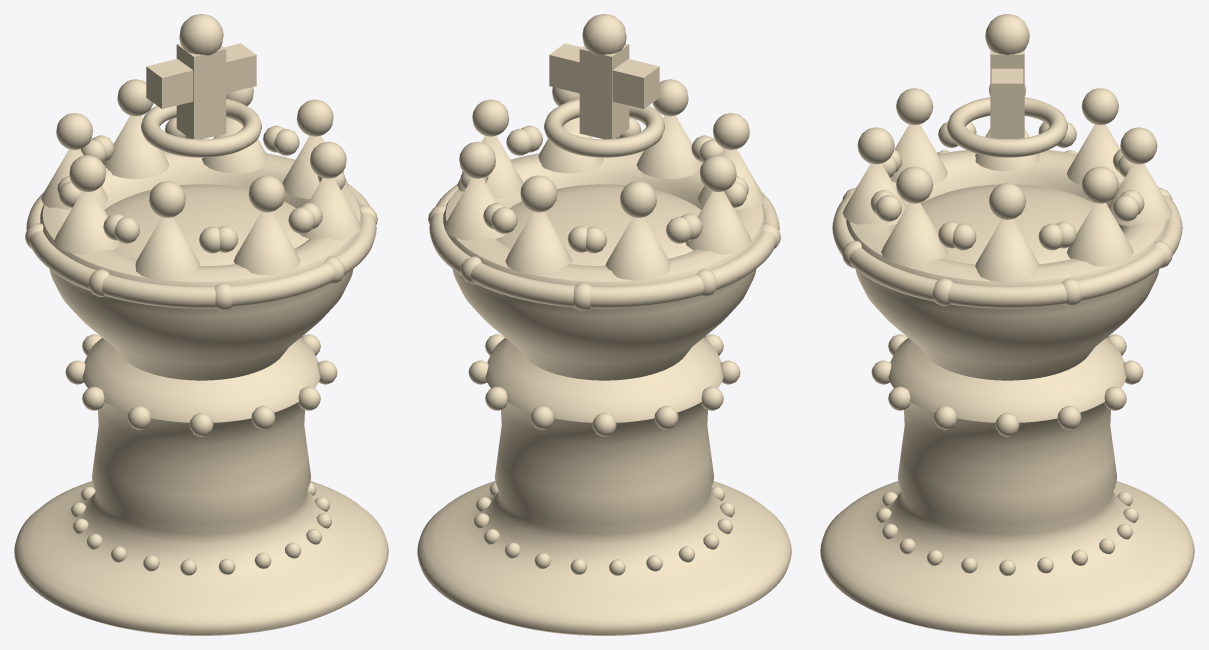
The model's file is king.glb.
3 views of the same model, side by side, from view 1: azimuth 30°, elevation 25°; view 2: azimuth 150°, elevation 25°; view 3: azimuth 270°, elevation 25° (orthographic).
Parts seen in each view (by area): view 1: King; view 2: King; view 3: King.
Part boxes in pixels (x1,y1,x2,y2): King: [14, 14, 388, 635]; King: [417, 14, 791, 635]; King: [820, 14, 1194, 635].
Bounding box in the file's own units: 0.0591 × 0.095 × 0.0591.
